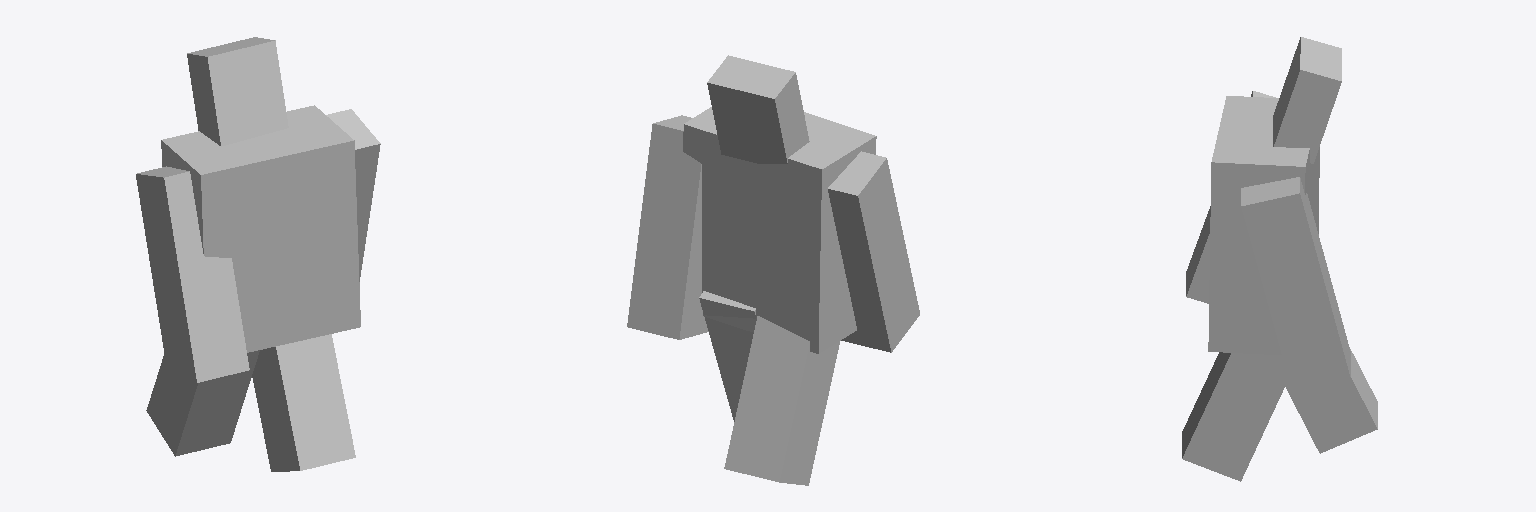
Rendered from walk_000006.obj.
3 views of the same model, side by side, from view 1: azimuth 30°, elevation 25°; view 2: azimuth 150°, elevation 25°; view 3: azimuth 270°, elevation 25° (orthographic).
Parts seen in each view (by area): view 1: Cube, leg.003_Cube.002, leg.001_Cube.007, Cube.001_Cube.003, leg_Cube.001, leg.002_Cube.006; view 2: Cube, leg.002_Cube.006, leg_Cube.001, leg.003_Cube.002, Cube.001_Cube.003, leg.001_Cube.007, Plane.002; view 3: Cube, leg.002_Cube.006, leg.001_Cube.007, Cube.001_Cube.003, leg_Cube.001, leg.003_Cube.002.
Boxes of the visible parts, <box> form: Cube: <box>161,105,360,352</box>; leg.003_Cube.002: <box>136,166,249,382</box>; leg.001_Cube.007: <box>252,334,355,471</box>; Cube.001_Cube.003: <box>187,37,288,146</box>; leg_Cube.001: <box>146,350,259,456</box>; leg.002_Cube.006: <box>326,109,380,281</box>; Cube: <box>683,107,876,353</box>; leg.002_Cube.006: <box>627,115,708,339</box>; leg_Cube.001: <box>724,316,839,485</box>; leg.003_Cube.002: <box>828,151,919,352</box>; Cube.001_Cube.003: <box>707,55,809,163</box>; leg.001_Cube.007: <box>699,291,755,421</box>; Plane.002: <box>727,126,775,161</box>; Cube: <box>1208,96,1319,354</box>; leg.002_Cube.006: <box>1241,177,1350,391</box>; leg.001_Cube.007: <box>1182,352,1288,481</box>; Cube.001_Cube.003: <box>1273,37,1341,163</box>; leg_Cube.001: <box>1285,349,1377,453</box>; leg.003_Cube.002: <box>1186,91,1275,303</box>.
Size of the model in its own units: 3.48 by 6.31 by 2.79.